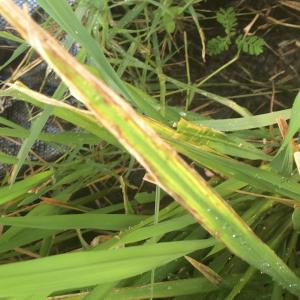Bacterial_Blight: (107, 94, 175, 195)
